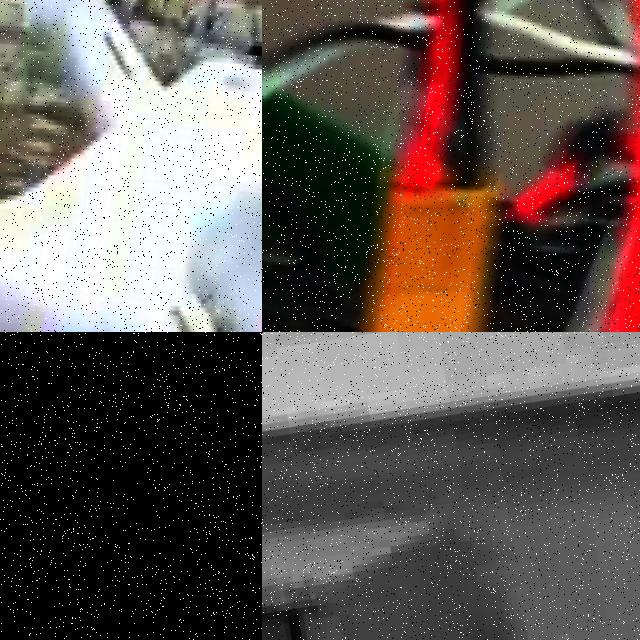drone: (262, 0, 640, 332), (0, 0, 262, 332)
